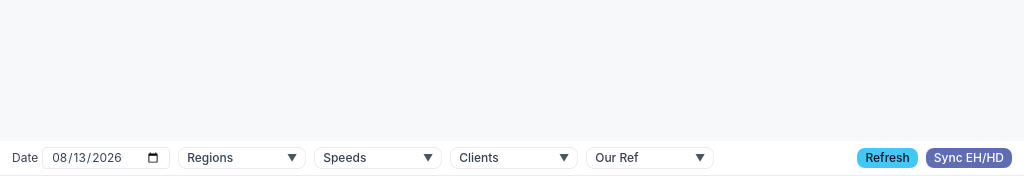
Test case: FiltersBar › opens Clients and shows every client option
(page scrolled)
Click the button "Clients ▼" at (514, 158), box [450,147,578,169]
(page scrolled)
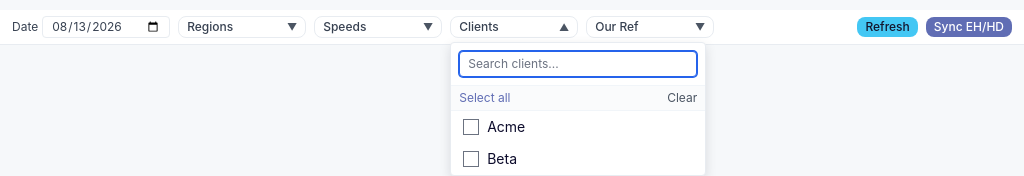
Now the text "Acme" is shown, box [487,118,525,135]
Now the text "Beta" is shown, box [487,150,517,167]
